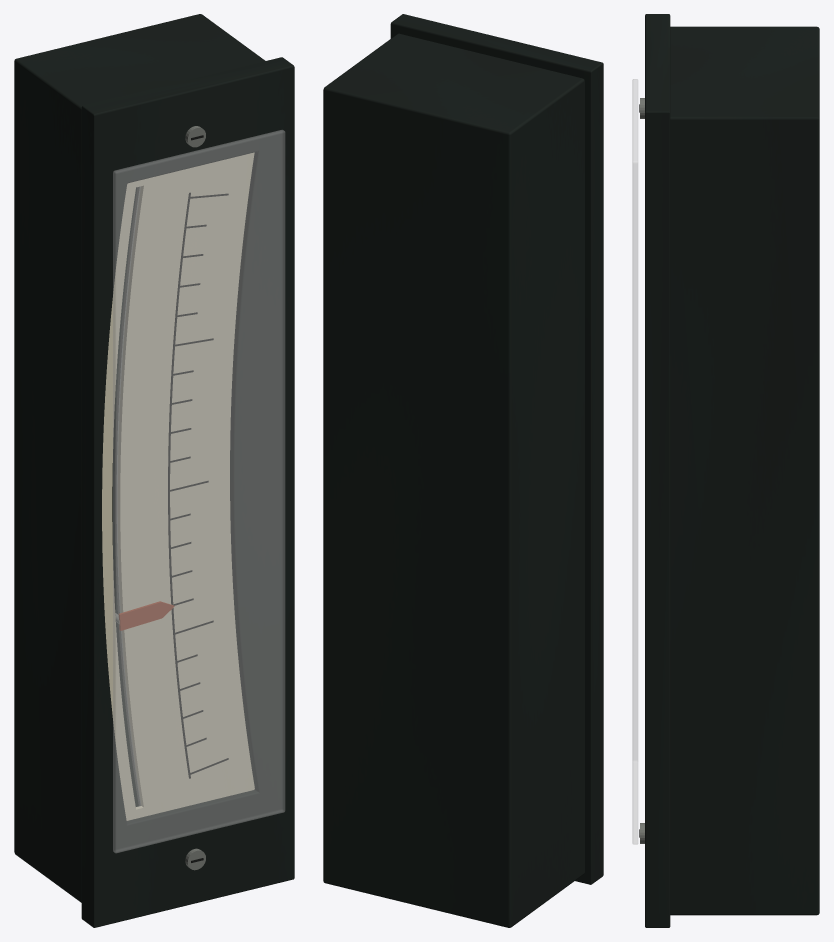
File: linear_gauge_mechanism_refined.glb
3 views of the same model, side by side, from view 1: azimuth 30°, elevation 25°; view 2: azimuth 150°, elevation 25°; view 3: azimuth 270°, elevation 25° (orthographic).
Parts seen in each view (by area): view 1: Fixed_Protective_Glass, Fixed_Front_Frame, Fixed_Scale_Window, Fixed_Rear_Housing, Fixed_Curved_Guide_Rail.001, Fixed_Scale_Rail, Fixed_Right_Hand_Scale_Marks, Moving_Wide_Pointer; view 2: Fixed_Rear_Housing, Fixed_Front_Frame; view 3: Fixed_Rear_Housing, Fixed_Front_Frame, Fixed_Protective_Glass.
Boxes of the visible parts, <box> form: Fixed_Protective_Glass: <box>113,130,284,852</box>; Fixed_Front_Frame: <box>81,57,294,927</box>; Fixed_Scale_Window: <box>102,152,254,820</box>; Fixed_Rear_Housing: <box>14,14,265,902</box>; Fixed_Curved_Guide_Rail.001: <box>114,186,141,806</box>; Fixed_Scale_Rail: <box>168,192,190,778</box>; Fixed_Right_Hand_Scale_Marks: <box>169,193,228,774</box>; Moving_Wide_Pointer: <box>118,601,174,630</box>; Fixed_Rear_Housing: <box>323,33,584,927</box>; Fixed_Front_Frame: <box>390,14,603,884</box>; Fixed_Rear_Housing: <box>670,26,819,915</box>; Fixed_Front_Frame: <box>645,14,670,927</box>; Fixed_Protective_Glass: <box>632,79,637,844</box>.
Size of the model in its own units: 0.046 by 0.178 by 0.037.
Materials: 6 (2 with a texture image).
